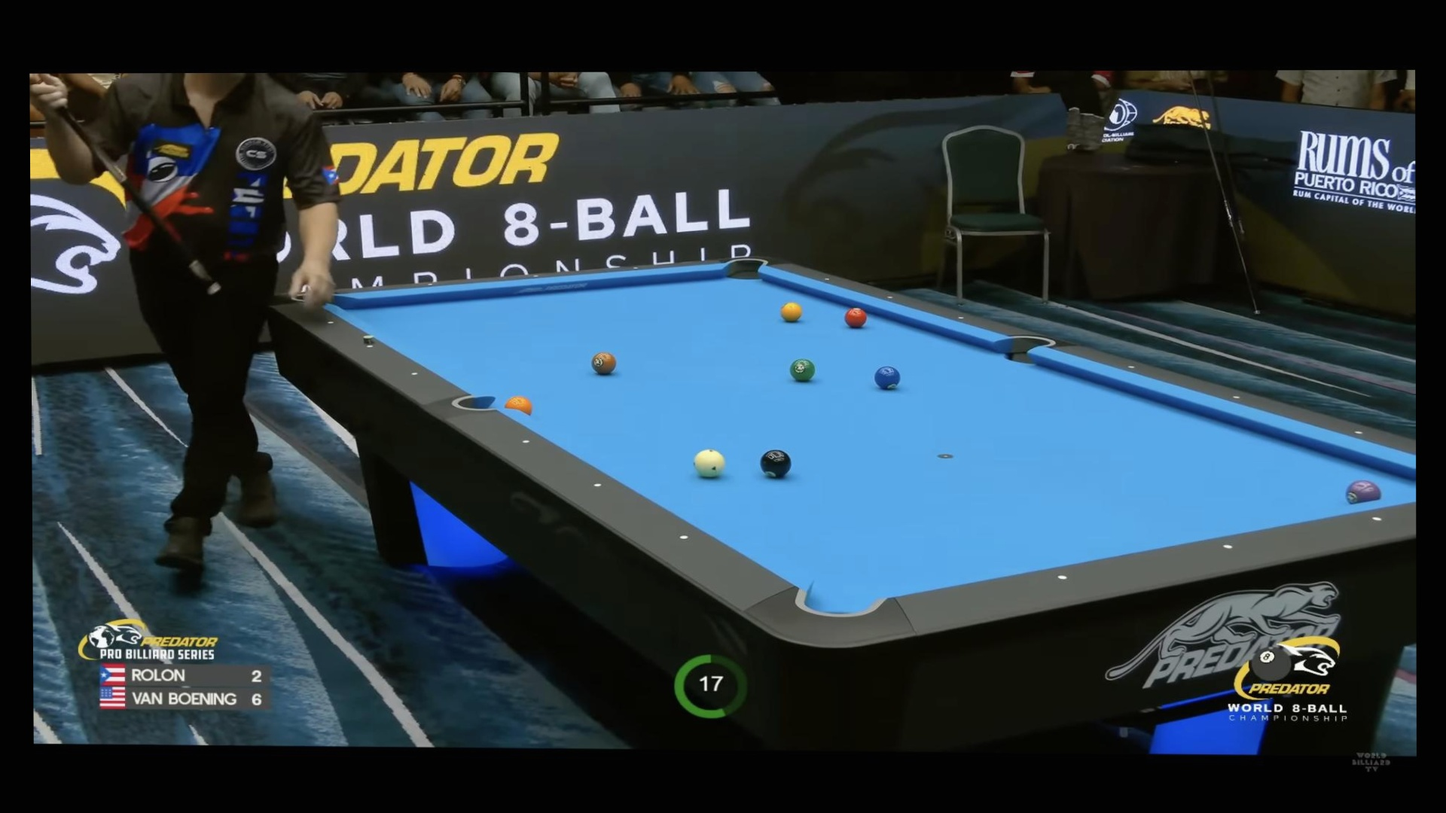Black: (759, 448, 792, 479)
Cue: (693, 448, 726, 478)
Solid: (591, 480, 604, 491), (520, 436, 533, 447), (1371, 514, 1383, 525), (678, 531, 690, 542), (1057, 572, 1068, 583), (1222, 541, 1233, 552), (1353, 427, 1364, 437), (366, 343, 374, 350), (327, 319, 335, 326), (958, 315, 965, 322), (887, 294, 894, 301), (824, 276, 831, 283), (411, 371, 419, 377), (1233, 395, 1240, 401), (1128, 364, 1135, 370), (427, 282, 433, 288), (533, 273, 539, 278), (632, 265, 638, 270)
Striped: (1347, 480, 1381, 505), (873, 365, 901, 390), (789, 358, 815, 382), (591, 351, 617, 375), (504, 396, 533, 417), (844, 307, 867, 328), (780, 302, 803, 322)
